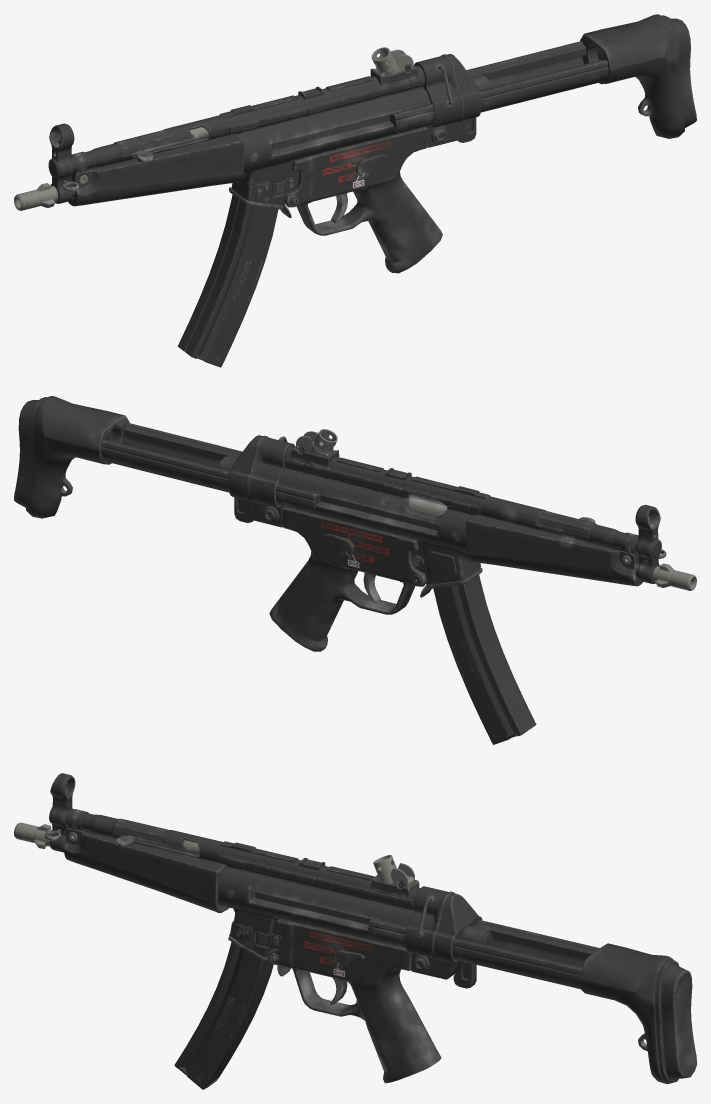
3 views of the same model, one above another, from view 1: azimuth 30°, elevation 25°; view 2: azimuth 150°, elevation 25°; view 3: azimuth 330°, elevation 25° (orthographic).
Visible parts, largest first — view 1: MP5A2_9MM, MP5A2_9MM_Magazine; view 2: MP5A2_9MM, MP5A2_9MM_Magazine; view 3: MP5A2_9MM, MP5A2_9MM_Magazine.
Part boxes in pixels (box(x1,y1,x2,y2)): MP5A2_9MM: box(14, 14, 696, 273); MP5A2_9MM_Magazine: box(177, 194, 278, 367); MP5A2_9MM: box(14, 396, 696, 651); MP5A2_9MM_Magazine: box(433, 574, 536, 744); MP5A2_9MM: box(14, 773, 696, 1084); MP5A2_9MM_Magazine: box(174, 942, 273, 1089).
Bounding box in the file's own units: 68.91 × 26.55 × 5.88.
